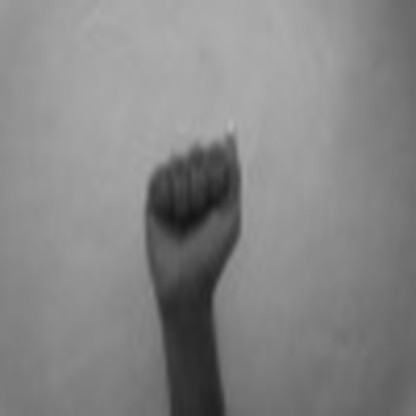a: (139, 114, 248, 297)
